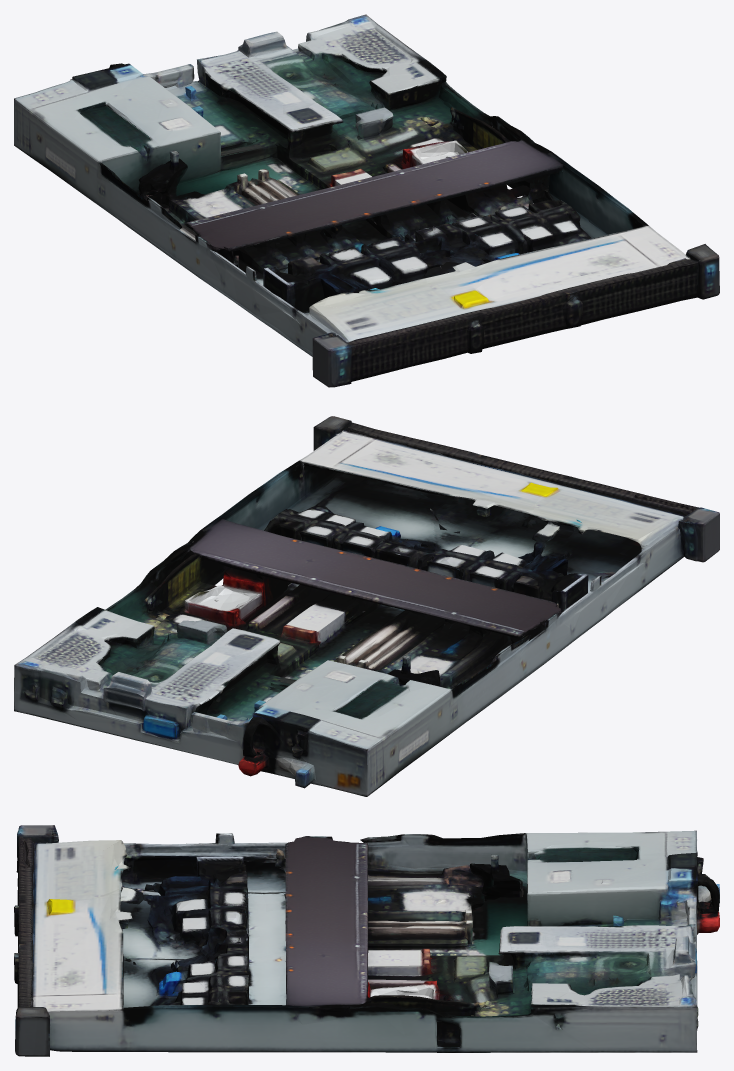
3 views of the same model, one above another, from view 1: azimuth 30°, elevation 25°; view 2: azimuth 150°, elevation 25°; view 3: azimuth 270°, elevation 25° (orthographic).
Visible parts, largest first — view 1: world; view 2: world; view 3: world.
Part boxes in pixels (left/top/right/bottom): world: left=14, top=14, right=719, bottom=387; world: left=14, top=416, right=719, bottom=796; world: left=14, top=825, right=719, bottom=1056.
Bounding box in the file's own units: 0.6498 × 0.0885 × 1.
1 material, 1 textured.
